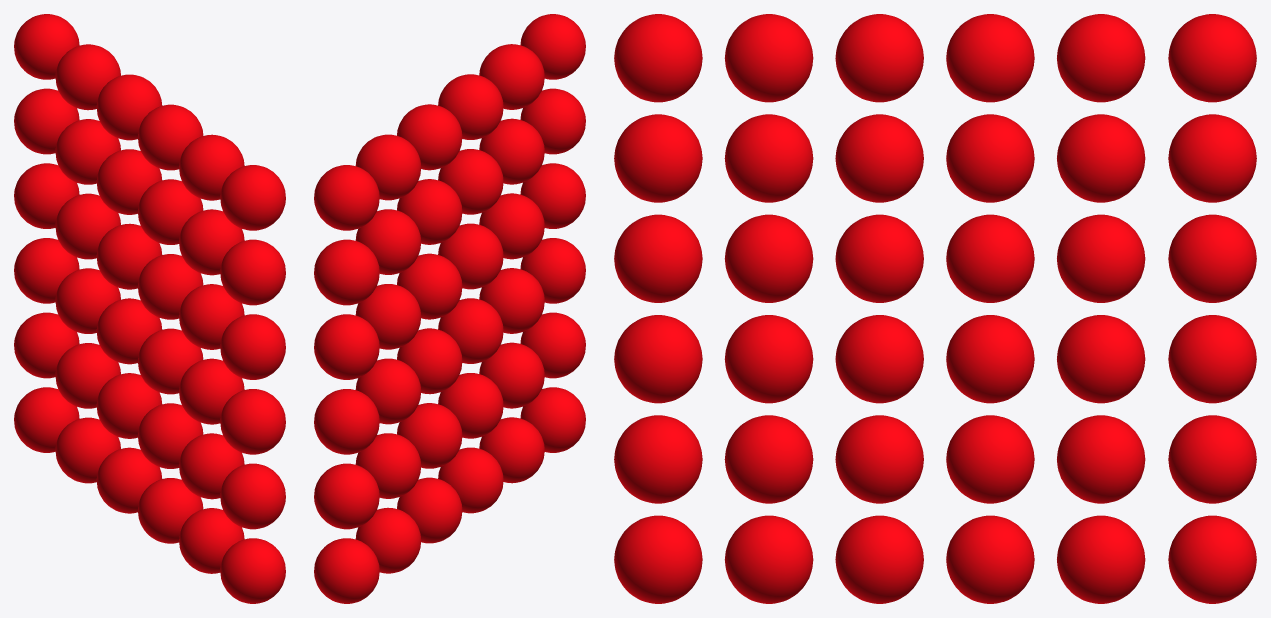
The model's file is spheres.glb.
The picture shows the model from 3 angles, left to right: view 1: azimuth 30°, elevation 25°; view 2: azimuth 150°, elevation 25°; view 3: azimuth 270°, elevation 25°; orthographic projection. The views are drawn at different scales.
Visible parts, largest first — view 1: Sphere.009, Sphere.020, Sphere.019, Sphere.010, Sphere.000, Sphere.029, Sphere.033, Sphere.012, Sphere.013, Sphere.011, Sphere.014, Sphere.031 (+24 smaller); view 2: Sphere.034, Sphere.031, Sphere.032, Sphere.033, Sphere.035, Sphere.030, Sphere.014, Sphere.011, Sphere.012, Sphere.010, Sphere.013, Sphere.015 (+24 smaller); view 3: Sphere.002, Sphere.003, Sphere.008, Sphere.017, Sphere.016, Sphere.021, Sphere.005, Sphere.012, Sphere.024, Sphere.027, Sphere.000, Sphere.019 (+24 smaller).
Boxes of the visible parts, x1,y1,x2,y2 form: Sphere.009: (220, 239, 285, 305); Sphere.020: (220, 463, 285, 529); Sphere.019: (220, 389, 285, 454); Sphere.010: (220, 165, 285, 230); Sphere.000: (220, 314, 285, 379); Sphere.029: (220, 538, 285, 603); Sphere.033: (14, 14, 79, 79); Sphere.012: (138, 104, 203, 170); Sphere.013: (96, 74, 162, 140); Sphere.011: (179, 134, 244, 200); Sphere.014: (55, 44, 120, 110); Sphere.031: (14, 312, 79, 378); Sphere.034: (314, 239, 379, 305); Sphere.031: (314, 463, 379, 529); Sphere.032: (314, 389, 379, 454); Sphere.033: (314, 165, 379, 230); Sphere.035: (314, 314, 379, 379); Sphere.030: (314, 538, 379, 603); Sphere.014: (355, 134, 421, 200); Sphere.011: (479, 44, 544, 109); Sphere.012: (438, 74, 503, 139); Sphere.010: (520, 14, 585, 79); Sphere.013: (397, 104, 462, 170); Sphere.015: (355, 358, 421, 424); Sphere.002: (835, 214, 923, 302); Sphere.003: (946, 214, 1034, 302); Sphere.008: (724, 114, 813, 202); Sphere.017: (835, 315, 923, 403); Sphere.016: (946, 315, 1034, 403); Sphere.021: (724, 415, 813, 503); Sphere.005: (1057, 114, 1145, 202); Sphere.012: (835, 14, 923, 102); Sphere.024: (1057, 415, 1145, 503); Sphere.027: (835, 515, 923, 603); Sphere.000: (614, 214, 702, 302); Sphere.019: (614, 315, 702, 403).
Size of the model in its own units: 2 by 14.5 by 14.52.
